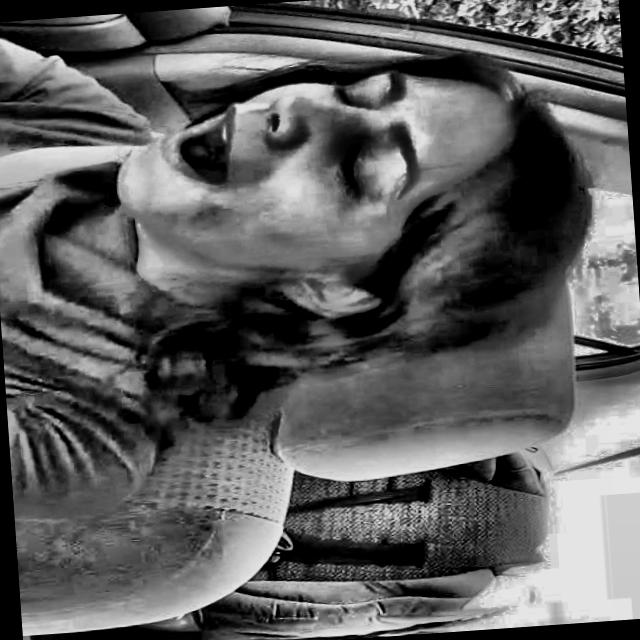closed_eyes: (319, 135, 382, 209), (318, 68, 383, 121)
open_mouth: (135, 97, 254, 197)
